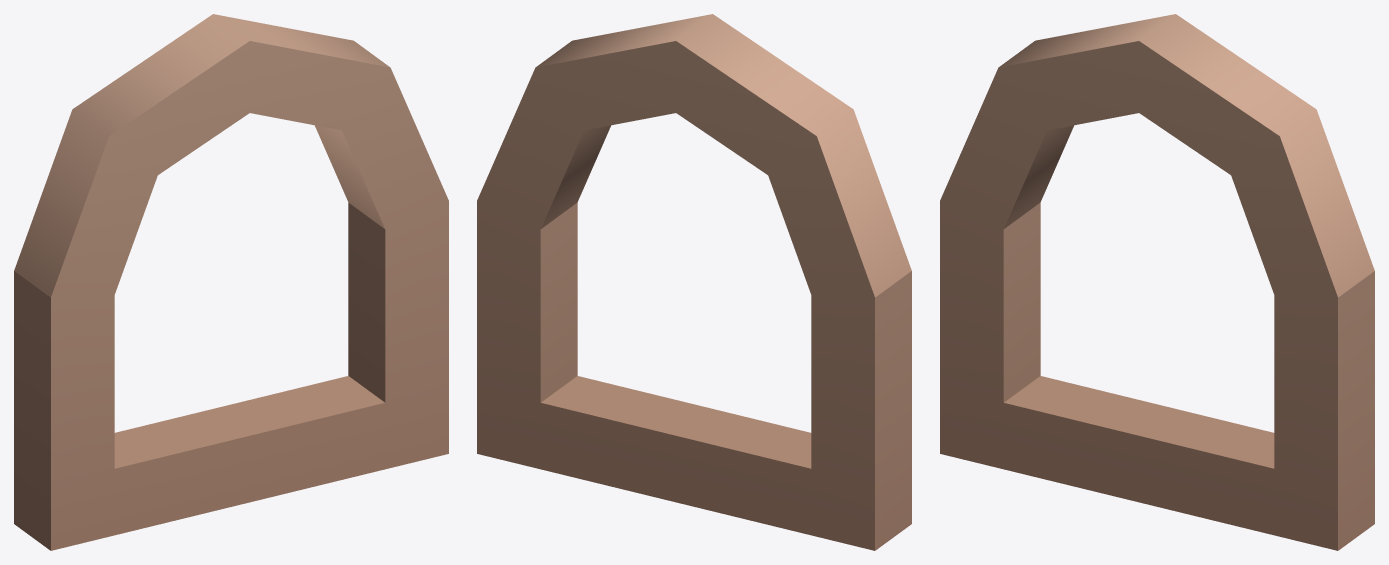
File: window-brown-round-low.glb
The picture shows the model from 3 angles, left to right: view 1: azimuth 30°, elevation 25°; view 2: azimuth 150°, elevation 25°; view 3: azimuth 330°, elevation 25°; orthographic projection.
Visible parts, largest first — view 1: window-brown-round-low; view 2: window-brown-round-low; view 3: window-brown-round-low.
Part boxes in pixels (x1,y1,x2,y2): window-brown-round-low: (14, 14, 448, 550); window-brown-round-low: (477, 14, 911, 550); window-brown-round-low: (940, 14, 1374, 550).
Size of the model in its own units: 0.3125 by 0.3462 by 0.05.
